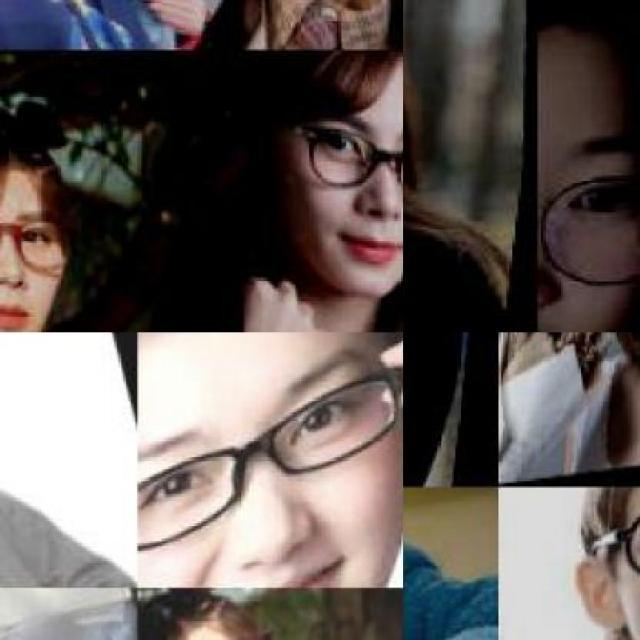mask: (136, 357, 398, 552), (536, 169, 638, 291), (270, 107, 409, 196), (0, 155, 82, 300), (576, 486, 638, 594)
